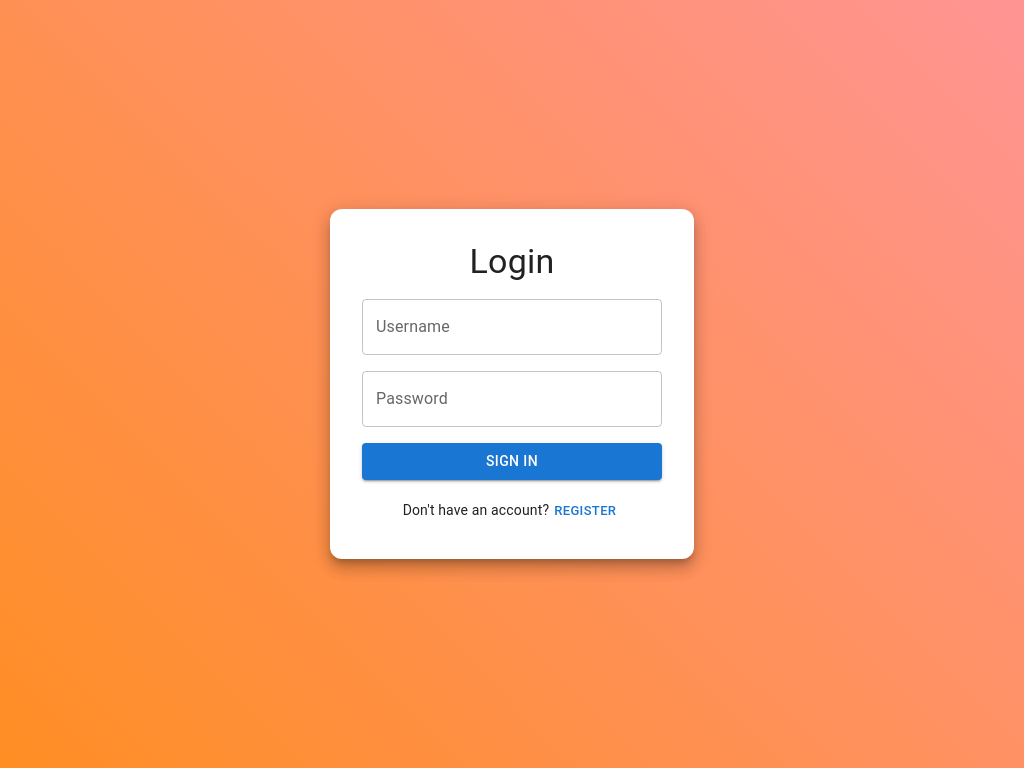
Test case: Chat Application Flow › allows adding a new channel
Type "testuser" into the field labelled "Username". click: (512,327)
box: [362,299,662,355]
Type "password123" into the password field labelled "Password". click: (512,399)
box: [362,371,662,427]
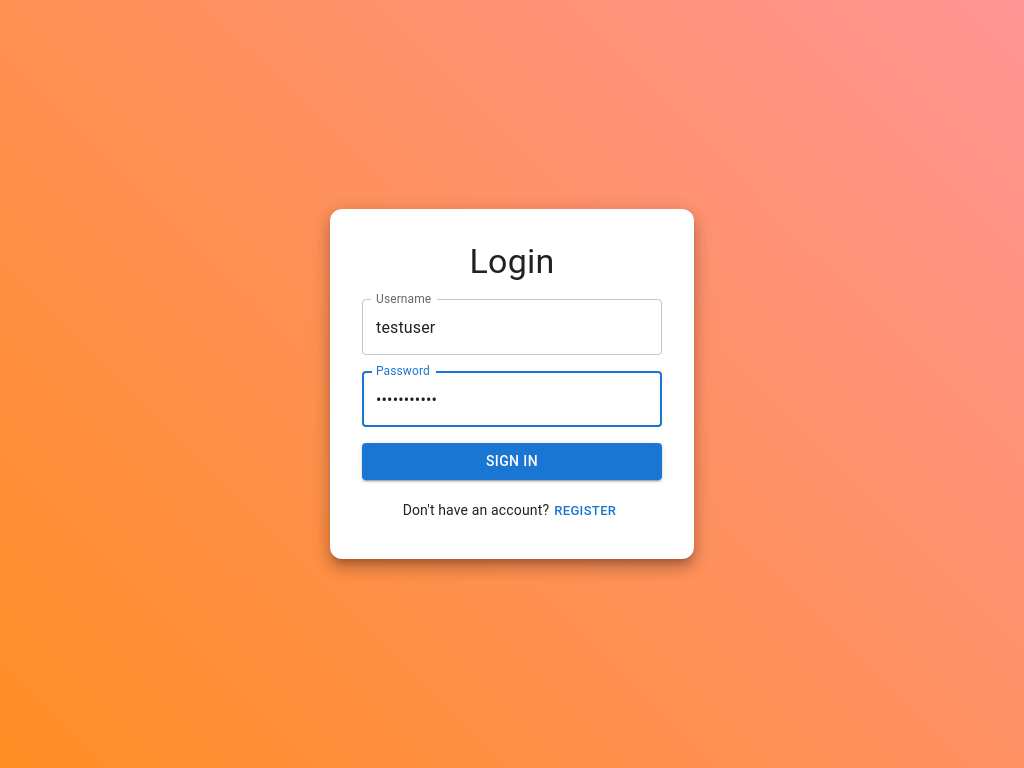
Click the button "Sign In". click: (512,462)
box: [362,443,662,480]
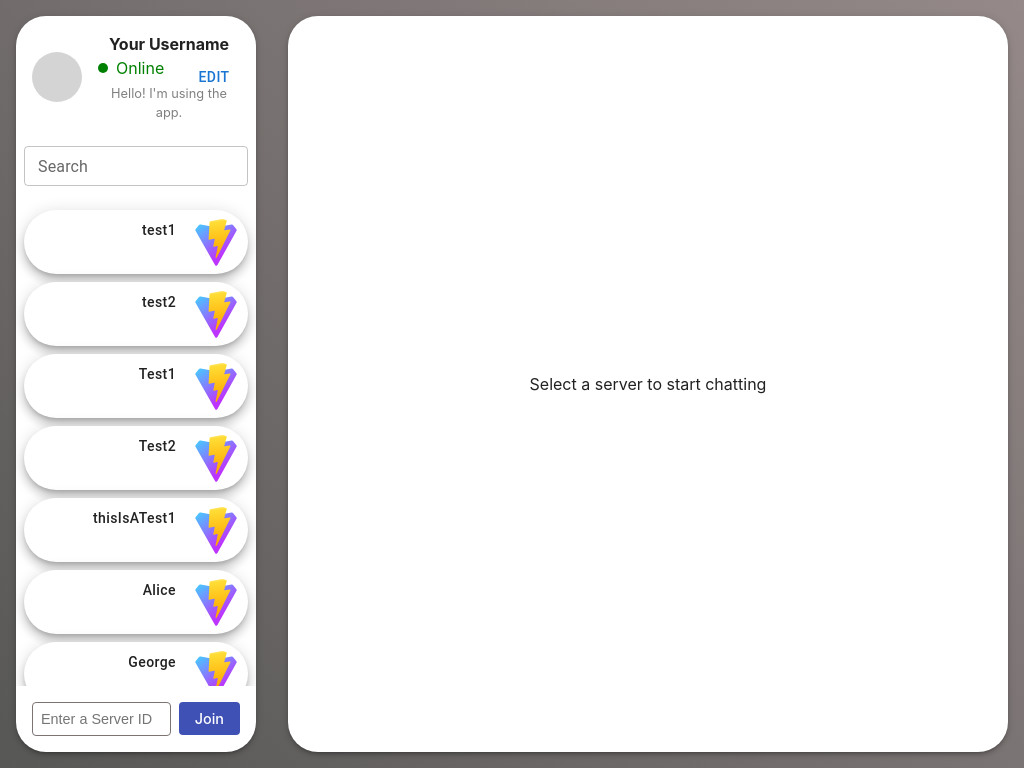
Expected: the element with class "ColorBox" is shown
Click the button "test1". click: (136,242)
box: [24,210,248,274]
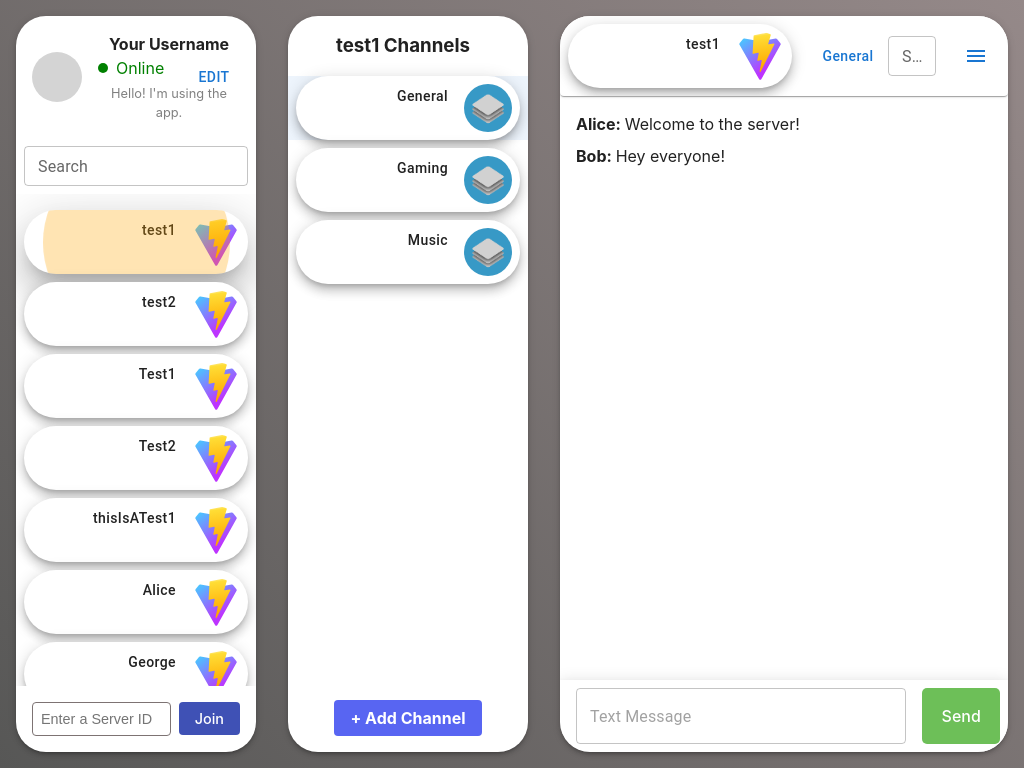
Click the button "+ Add Channel". click: (409,718)
box: [335,700,482,736]
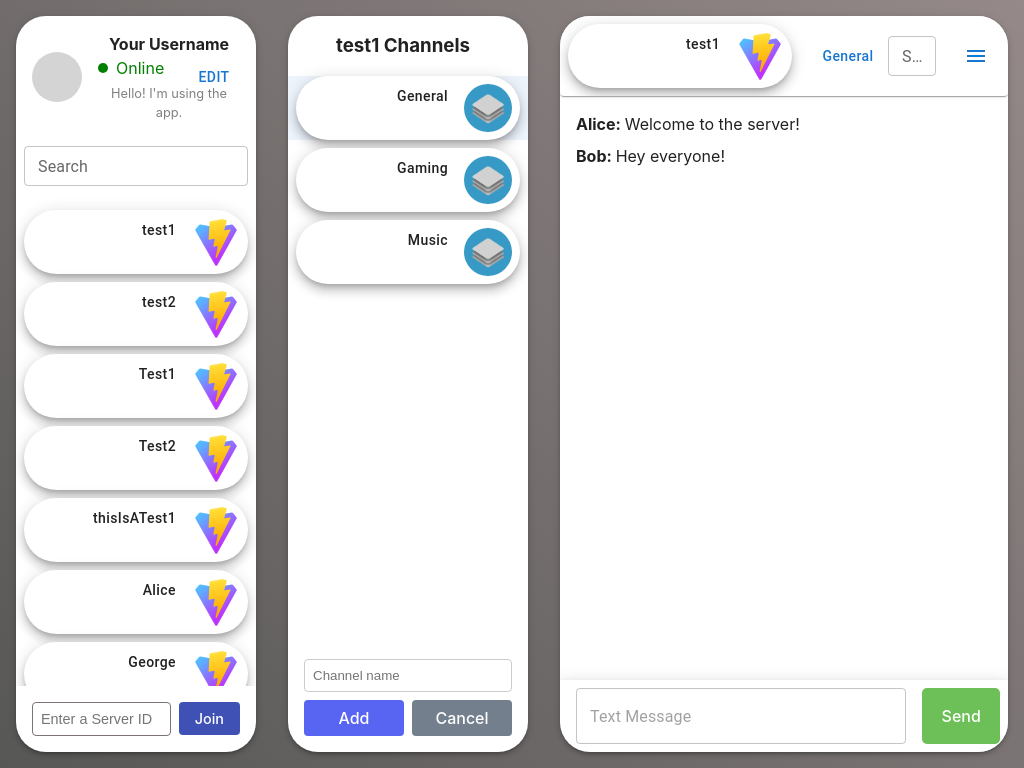
Type "Cypress Test Channel" into the field with placeholder "Channel name". click: (408,676)
box: [304,659,512,692]
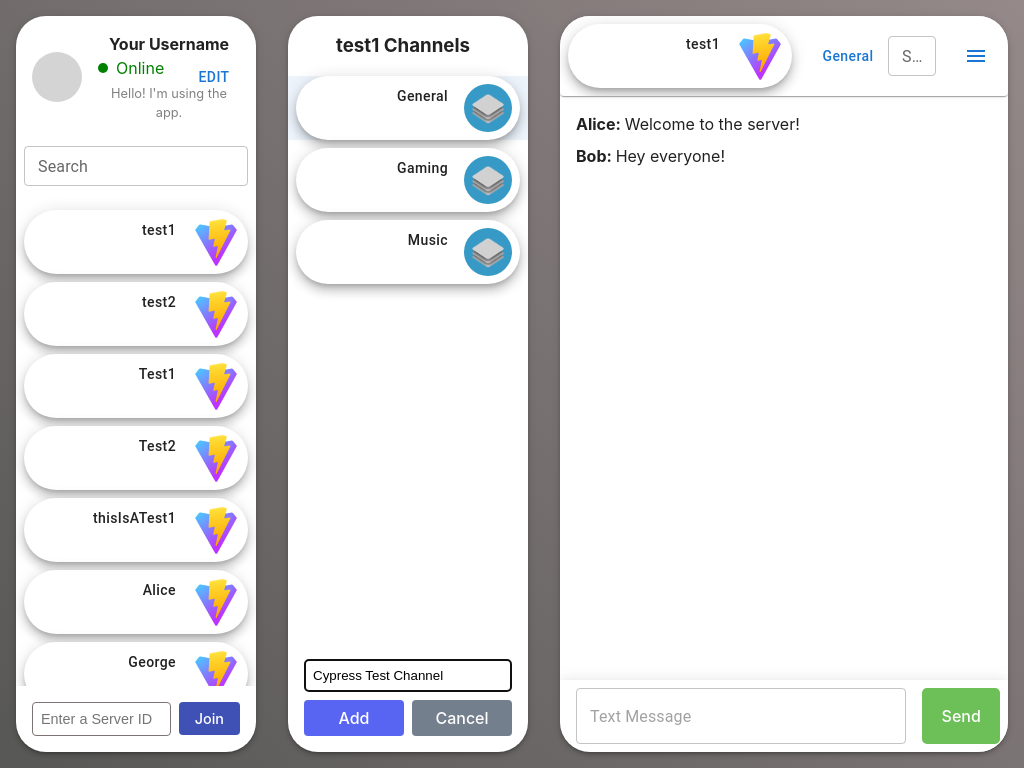
Click the button "Add". click: (354,718)
box: [304,700,404,736]
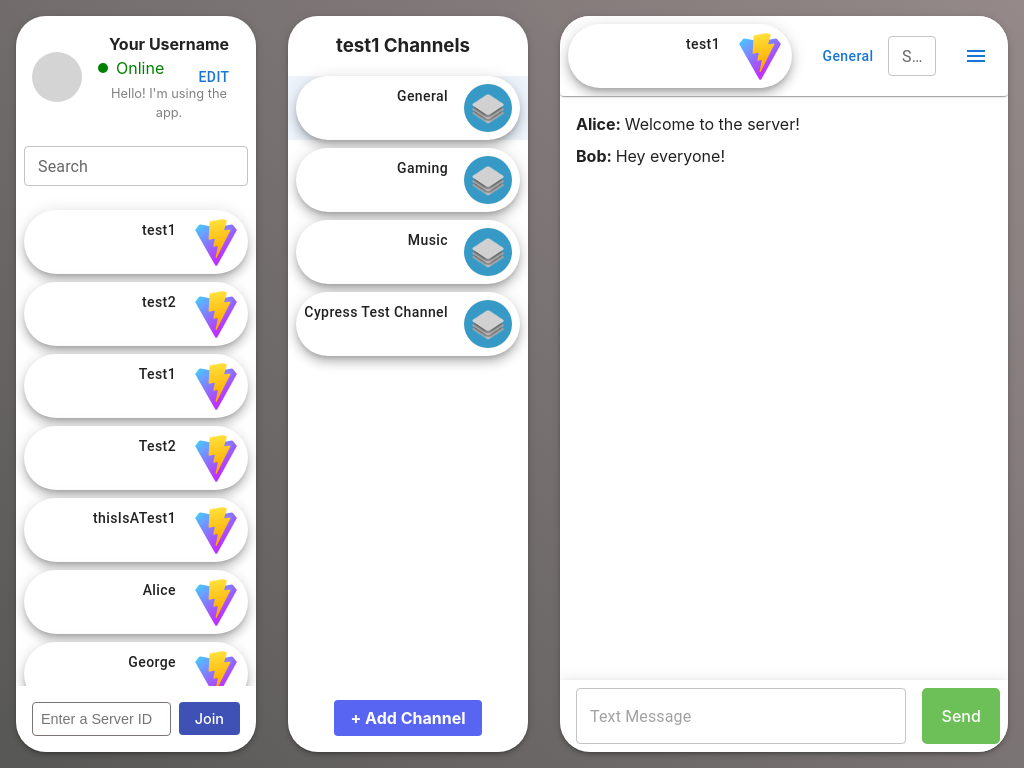
Expected: the button "Cypress Test Channel" is shown, [296,292,520,356]
